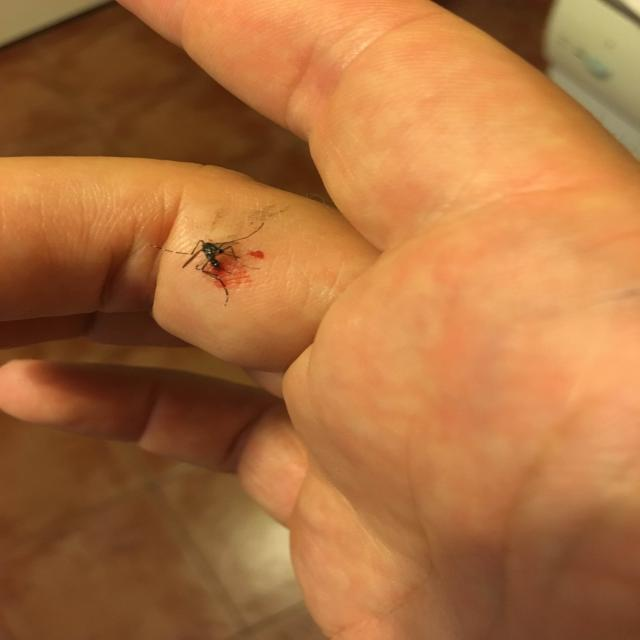albopictus: (137, 215, 266, 309)
